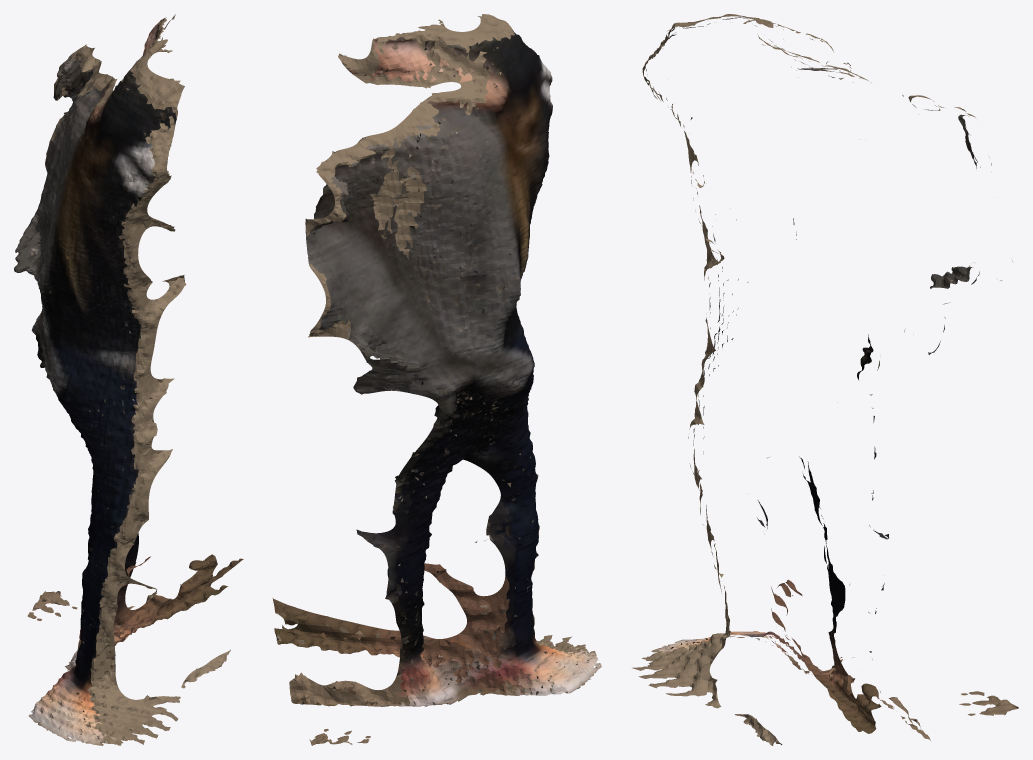
3 views of the same model, side by side, from view 1: azimuth 30°, elevation 25°; view 2: azimuth 150°, elevation 25°; view 3: azimuth 270°, elevation 25° (orthographic). The views are drawn at different scales.
Bounding box in the file's own units: 0.6558 × 1.54 × 0.7867.
Materials: 1 (1 with a texture image).
